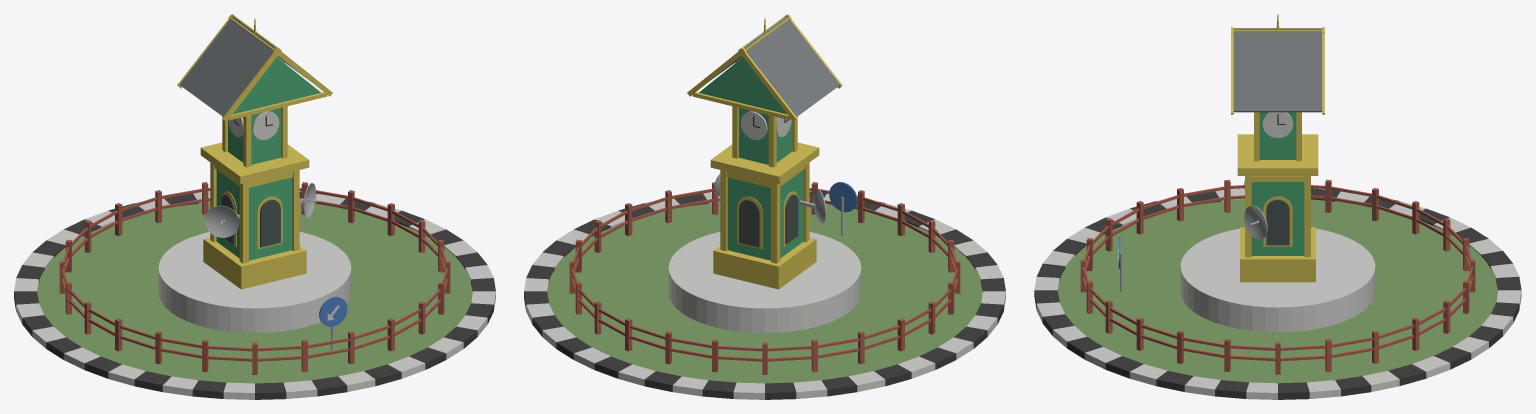
Rendered from tugu-ale-ale.glb.
3 renders of one model, left to right at view 1: azimuth 30°, elevation 25°; view 2: azimuth 150°, elevation 25°; view 3: azimuth 270°, elevation 25°, orthographic.
Visible parts, largest first — view 1: Tugu_Ale_Ale; view 2: Tugu_Ale_Ale; view 3: Tugu_Ale_Ale.
Boxes of the visible parts, x1,y1,x2,y2 form: Tugu_Ale_Ale: (14, 14, 495, 399); Tugu_Ale_Ale: (524, 14, 1005, 399); Tugu_Ale_Ale: (1034, 14, 1521, 399).
Bounding box in the file's own units: 11.5 × 7.37 × 11.5.
